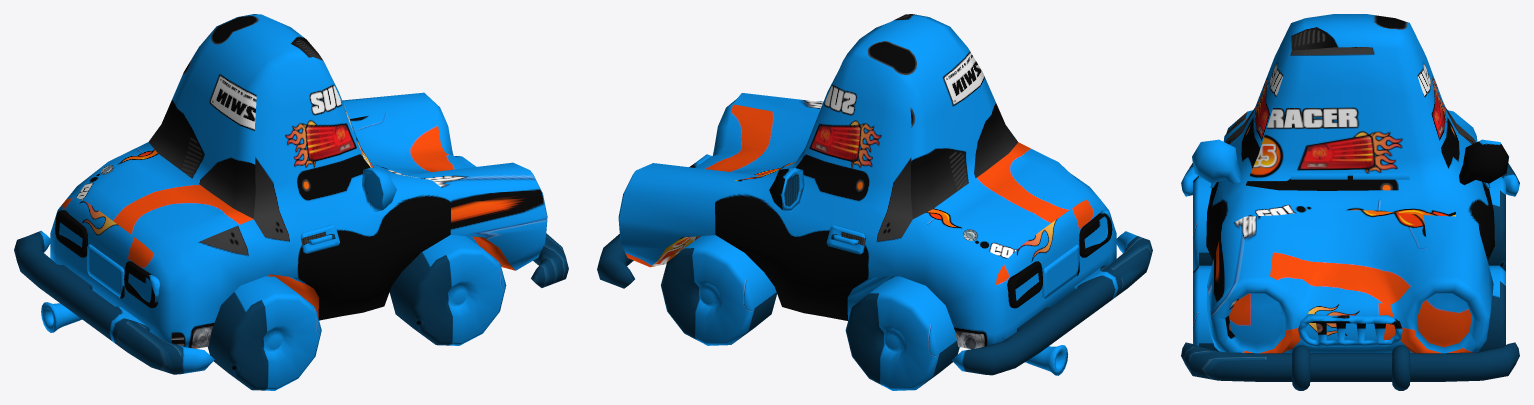
The model's file is toon-car.fbx.
3 views of the same model, side by side, from view 1: azimuth 30°, elevation 25°; view 2: azimuth 150°, elevation 25°; view 3: azimuth 270°, elevation 25° (orthographic).
Parts seen in each view (by area): view 1: body, BR_wheel, FR_wheel, bumperBack, bumperFront, licensePlate, polySurface5, breakLight_R, breakLight_L, doorHandles, muffler; view 2: body, BL_wheel, FL_wheel, bumperBack, bumperFront, licensePlate, polySurface4, breakLight_L, breakLight_R, doorHandles, muffler; view 3: body, bumperFront, grill, polySurface4, polySurface5, BR_wheel, FL_wheel, FR_wheel, BL_wheel, wipers, bumperBack.
Part boxes in pixels (bbox=[...]): body: bbox=[50, 14, 547, 348]; BR_wheel: bbox=[208, 276, 321, 390]; FR_wheel: bbox=[389, 235, 506, 345]; bumperBack: bbox=[14, 231, 214, 374]; bumperFront: bbox=[531, 233, 568, 287]; licensePlate: bbox=[87, 244, 124, 298]; polySurface5: bbox=[362, 167, 396, 211]; breakLight_R: bbox=[124, 261, 160, 307]; breakLight_L: bbox=[55, 210, 87, 257]; doorHandles: bbox=[300, 224, 339, 253]; muffler: bbox=[41, 302, 81, 332]; body: bbox=[618, 14, 1116, 349]; BL_wheel: bbox=[845, 276, 959, 390]; FL_wheel: bbox=[661, 235, 776, 345]; bumperBack: bbox=[952, 231, 1152, 375]; bumperFront: bbox=[597, 234, 634, 288]; licensePlate: bbox=[1042, 244, 1079, 298]; polySurface4: bbox=[769, 168, 804, 212]; breakLight_L: bbox=[1007, 261, 1042, 308]; breakLight_R: bbox=[1079, 210, 1112, 257]; doorHandles: bbox=[826, 225, 865, 254]; muffler: bbox=[1025, 345, 1067, 375]; body: bbox=[1206, 14, 1494, 353]; bumperFront: bbox=[1181, 342, 1519, 390]; grill: bbox=[1298, 314, 1402, 347]; polySurface4: bbox=[1459, 139, 1508, 185]; polySurface5: bbox=[1192, 139, 1241, 183]; BR_wheel: bbox=[1193, 176, 1212, 271]; FL_wheel: bbox=[1479, 265, 1505, 351]; FR_wheel: bbox=[1193, 265, 1218, 350]; BL_wheel: bbox=[1488, 176, 1505, 271]; wipers: bbox=[1291, 173, 1409, 179]; bumperBack: bbox=[1181, 163, 1519, 196].
Size of the model in its own units: 29.31 by 18.61 by 19.7.
